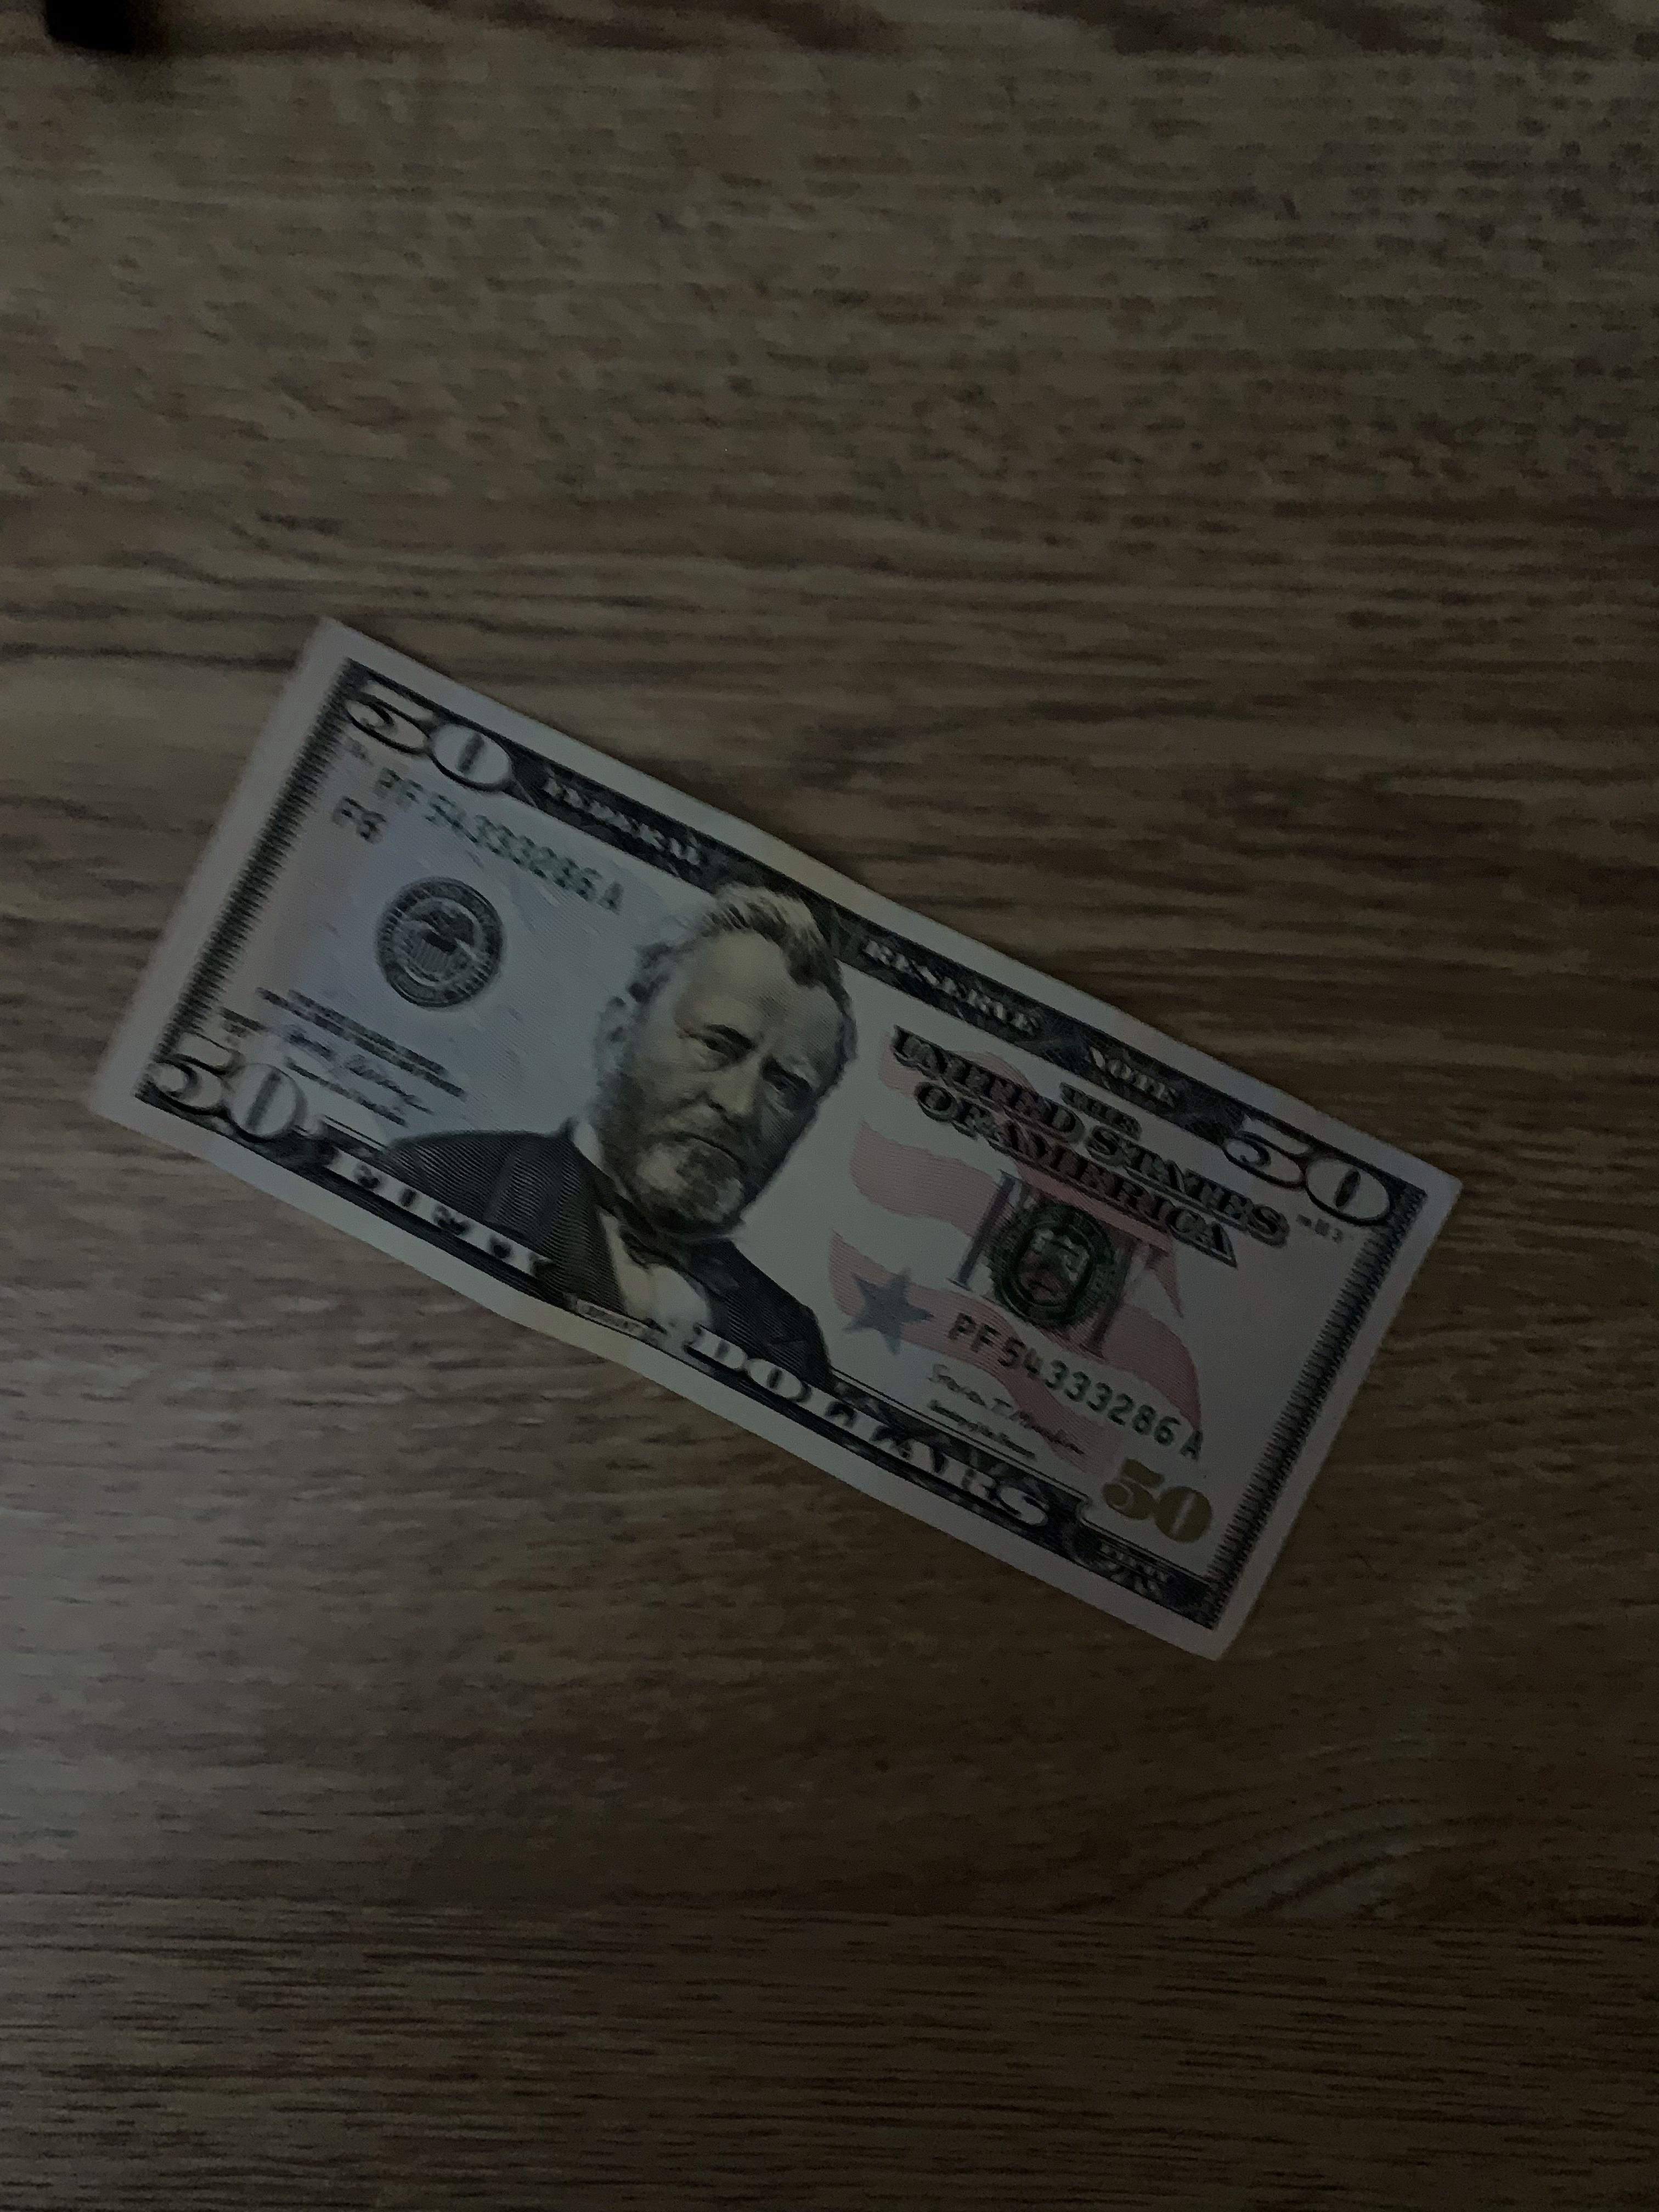FiftyBill: (85, 618, 1466, 1670)
